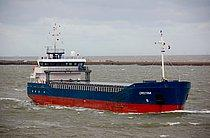Ship: (22, 24, 193, 117)
